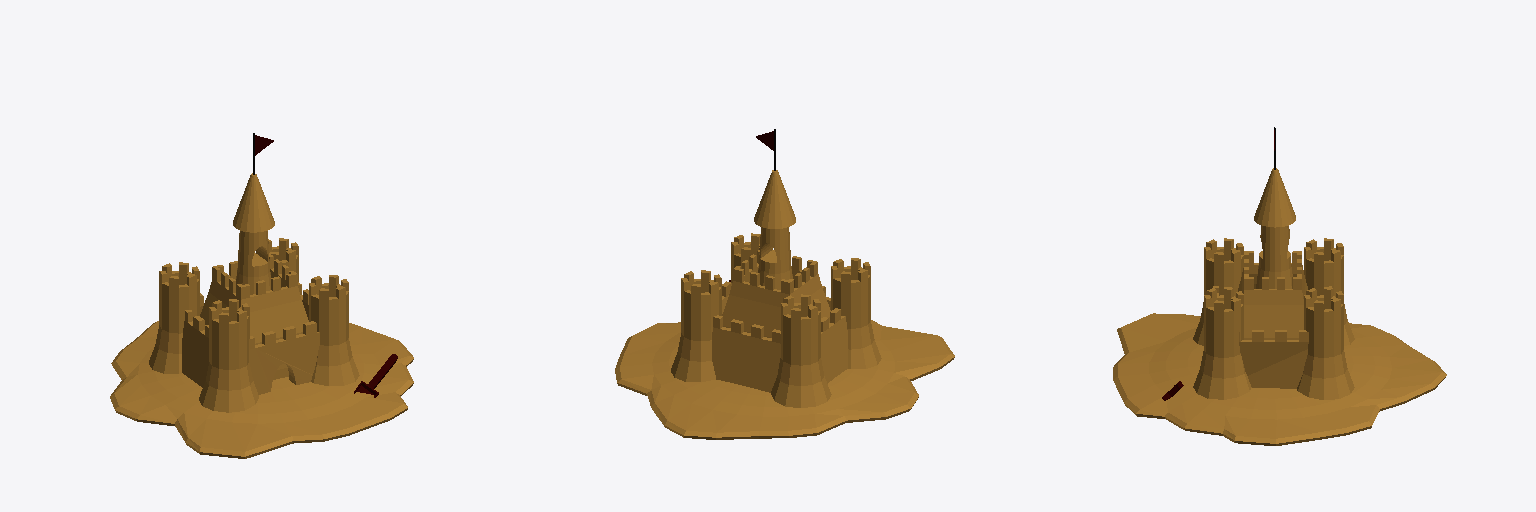
File: SandCastle_167.obj
3 renders of one model, left to right at view 1: azimuth 30°, elevation 25°; view 2: azimuth 150°, elevation 25°; view 3: azimuth 270°, elevation 25°, orthographic.
Parts seen in each view (by area): view 1: Box002, Sphere001; view 2: Box002, Sphere001; view 3: Box002, Sphere001.
Part boxes in pixels (x1,y1,x2,y2): Box002: (149, 133, 359, 412); Sphere001: (110, 321, 413, 458); Box002: (671, 129, 881, 407); Sphere001: (615, 320, 954, 439); Box002: (1193, 127, 1354, 399); Sphere001: (1113, 313, 1446, 445).
Size of the model in its own units: 205 by 173 by 208.